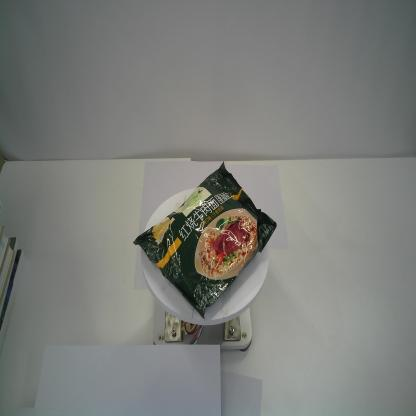Instant Noodles: (133, 160, 277, 319)
